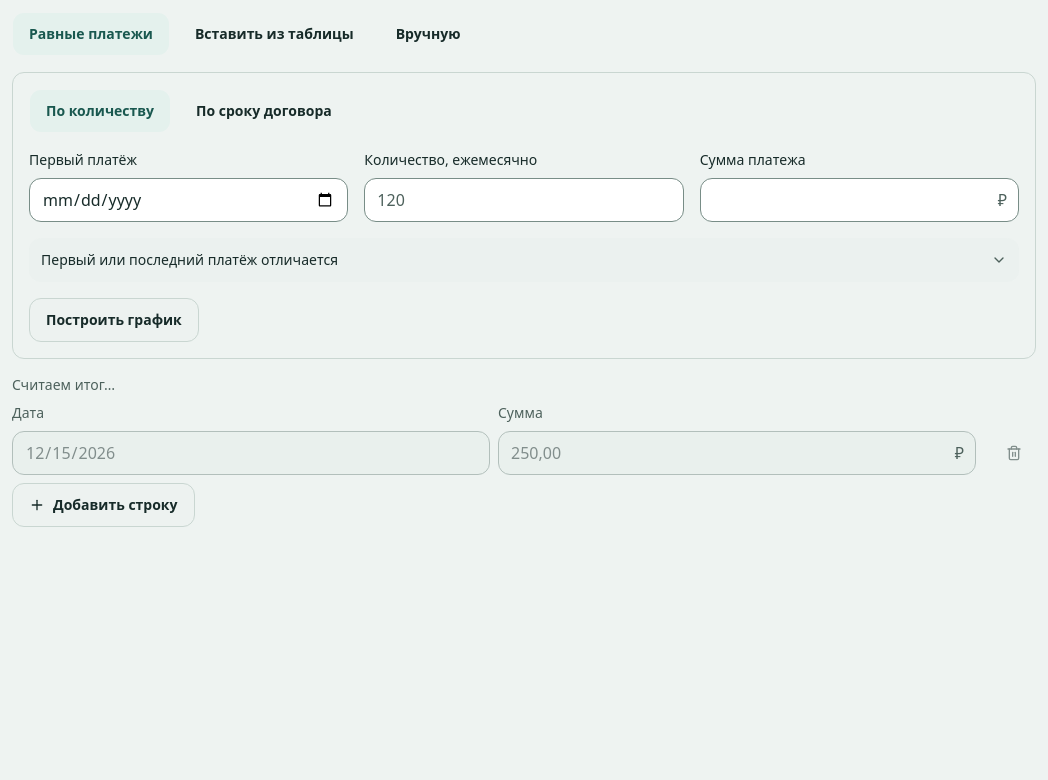
it: SPEC-0037 schedule builder › keeps paid rows locked when a generator replaces the schedule
Expected: the date field named "Дата платежа 1 · есть оплата" is disabled, [12,431,490,475]
Type "2027-01-15" into the date field labelled "Первый платёж".
click(189, 200); type("2027-01-15")  # box [29,178,348,222]
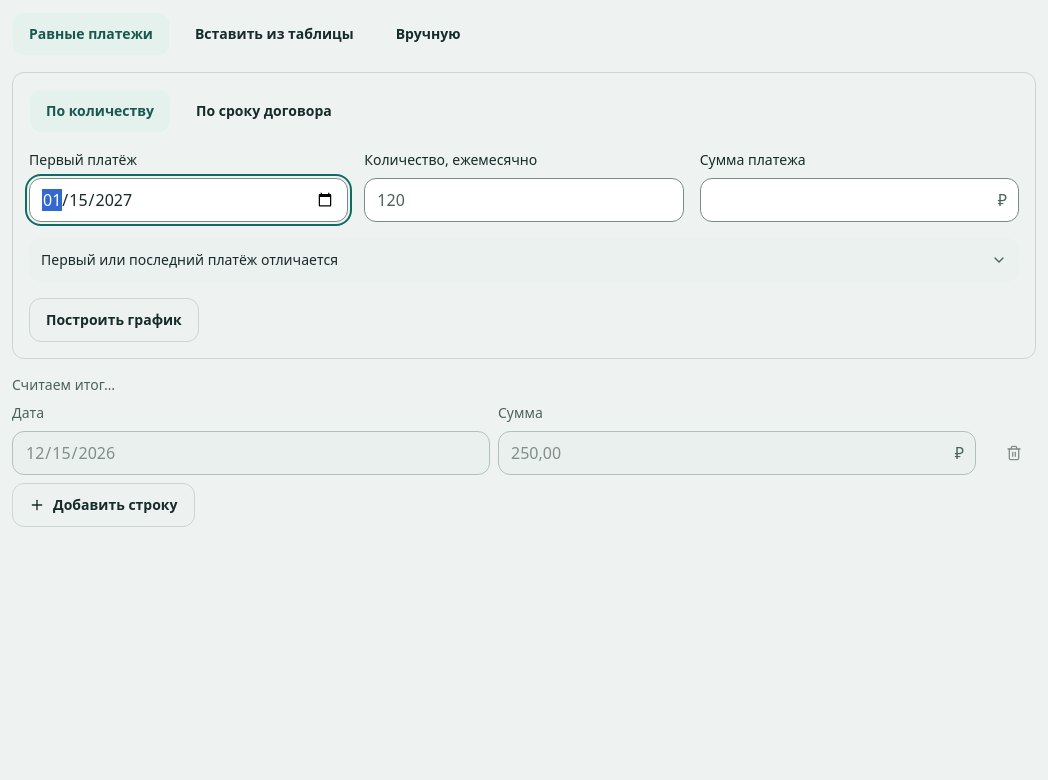
Type "2" into the field labelled "Количество, ежемесячно".
click(524, 200); type("2")  # box [364,178,684,222]
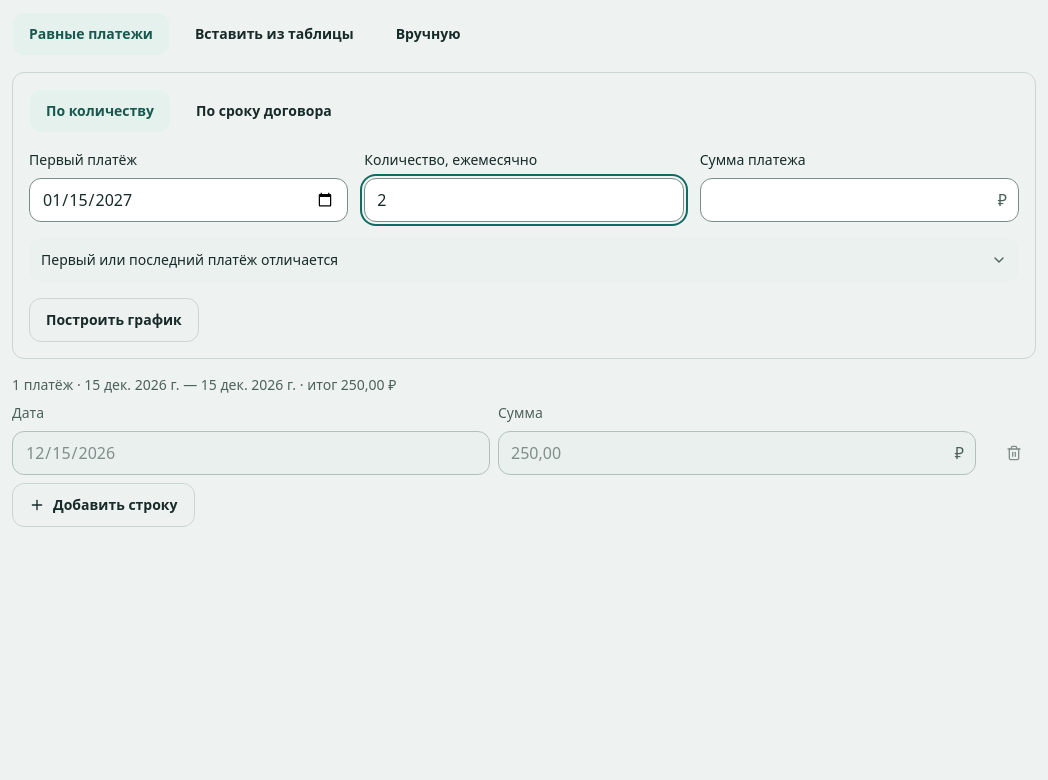
Type "300" into the field labelled "Сумма платежа".
click(859, 200); type("300")  # box [700,178,1019,222]
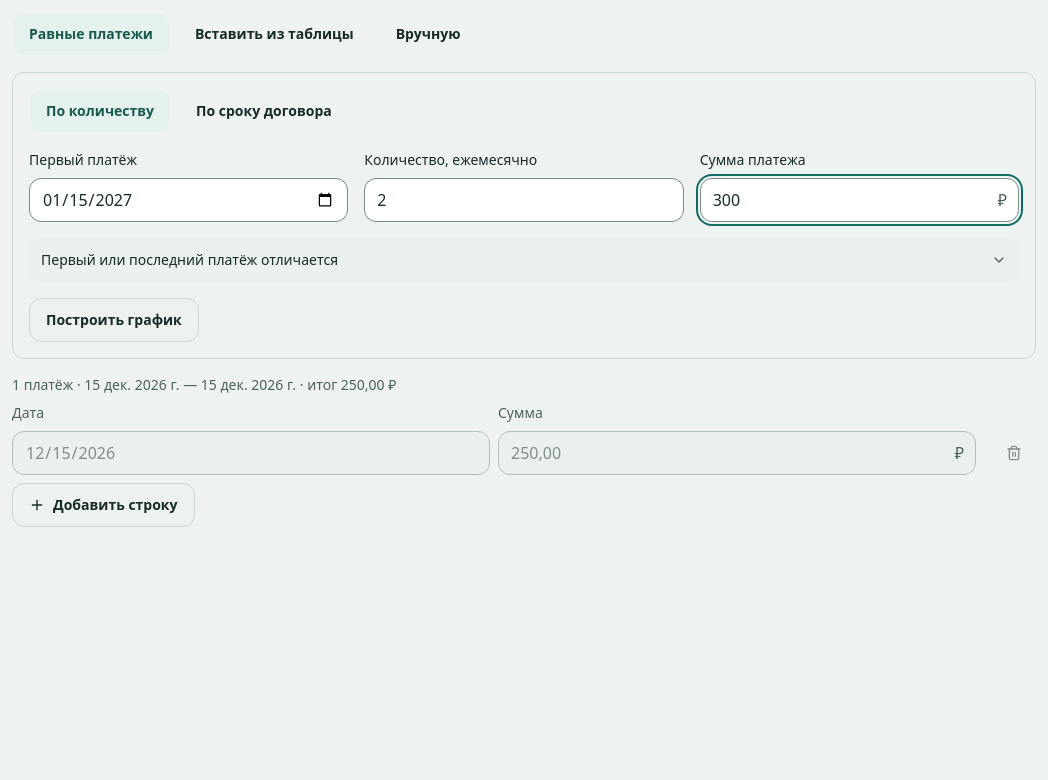
Click the button "Построить график".
click(114, 320)  # box [29,298,199,342]
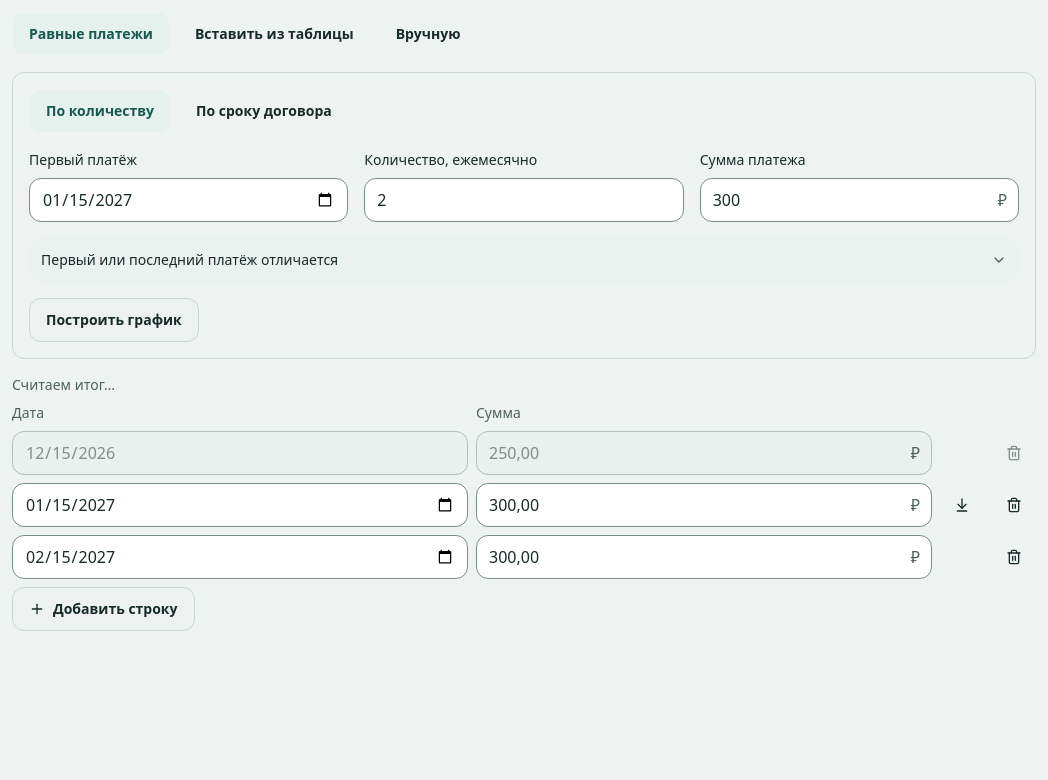
Expected: the date field named "Дата платежа 1 · есть оплата" holds "2026-12-15", [12,431,468,475]
Expected: the number of date fields named "Дата платежа" is 3, [12,431,468,475]; [12,483,468,527]; [12,535,468,579]
